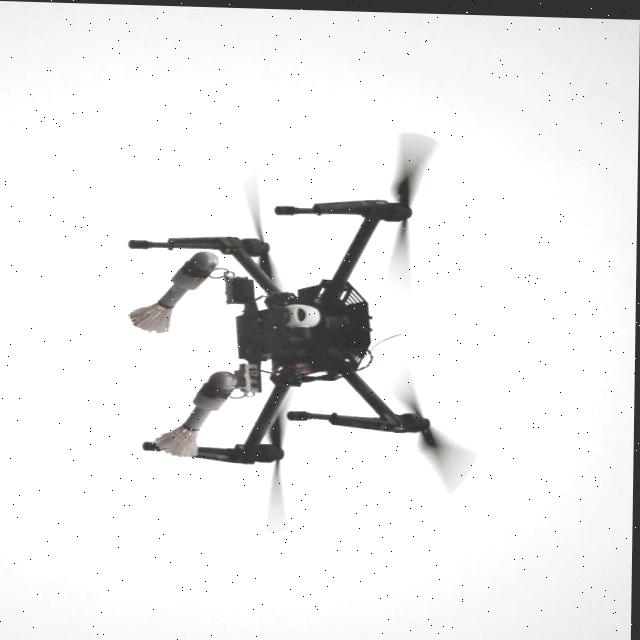drone: (115, 124, 488, 532)
